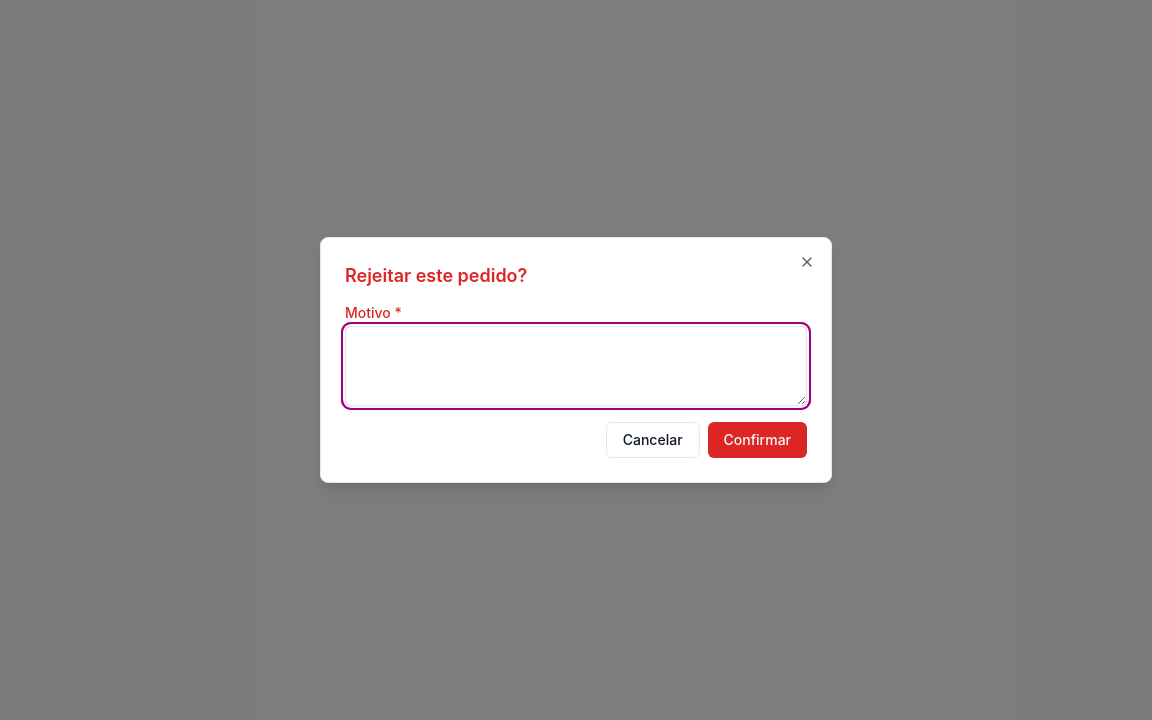
ConfirmActionDialog › com motivo obrigatório, confirmar sem escrever mostra o erro em vez de avançar
The image size is (1152, 720).
Click the button "Confirmar" at (757, 440), box [708, 422, 807, 458]
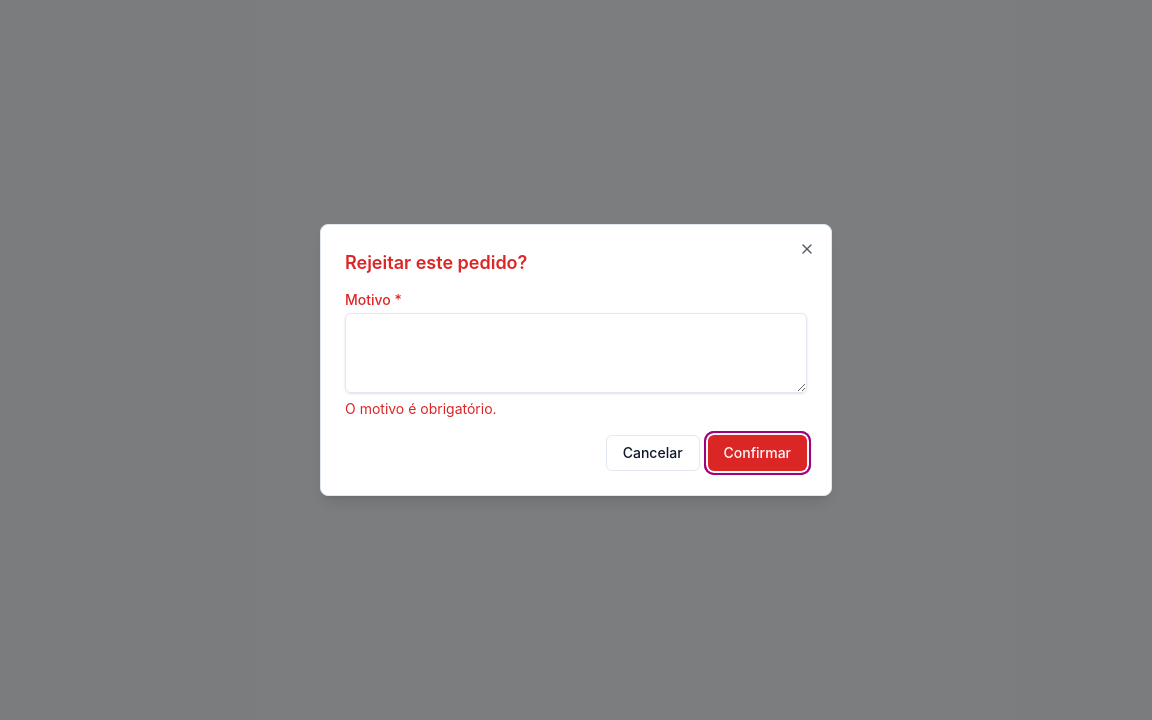
Result: the text "O motivo é obrigatório." is shown at [345, 400, 497, 417]
